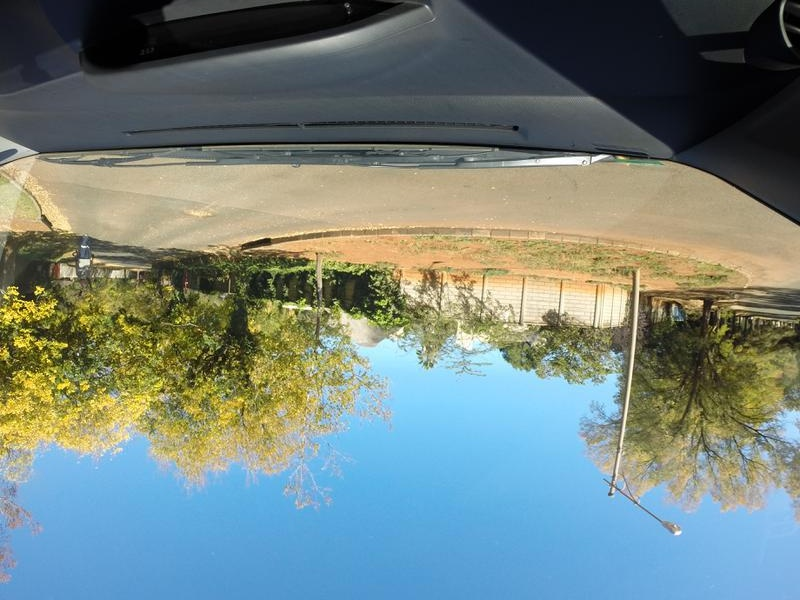pothole: (178, 199, 221, 228)
